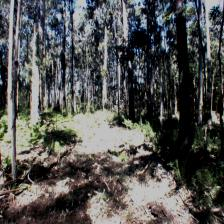trunktrack_idkeyframe: (178, 59, 192, 148), (9, 83, 17, 179), (128, 70, 136, 119)
